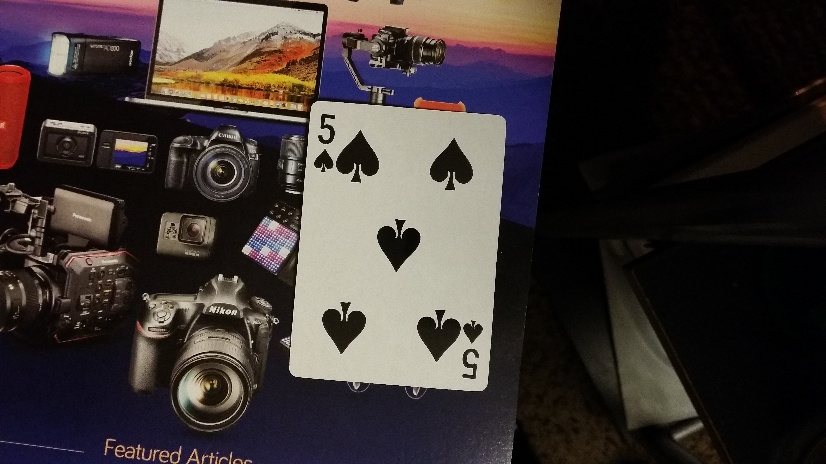S5: (313, 108, 338, 174), (461, 315, 483, 385)
